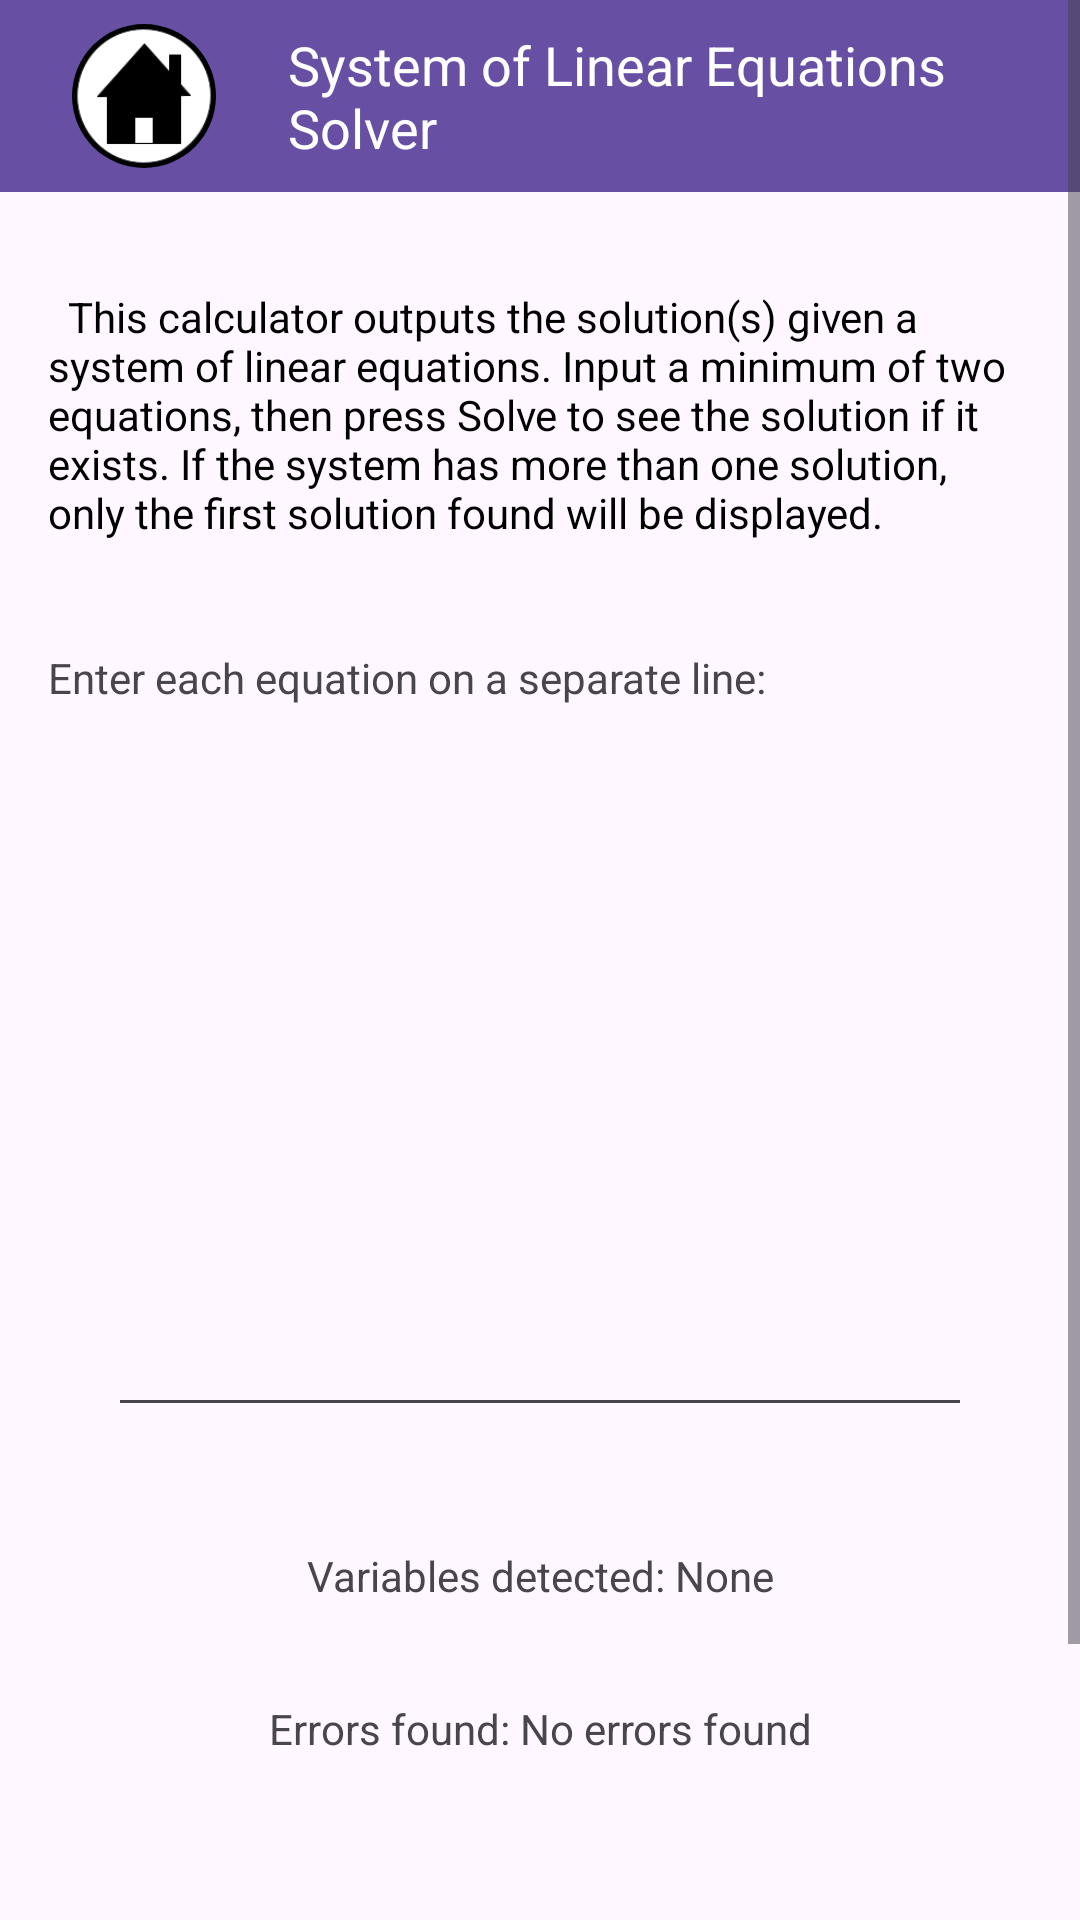

Named icons in this screenshot (1080 × 1920) and their bounding boxes, (x1, y1, x2, y2):
Home: (72, 24, 216, 168)
